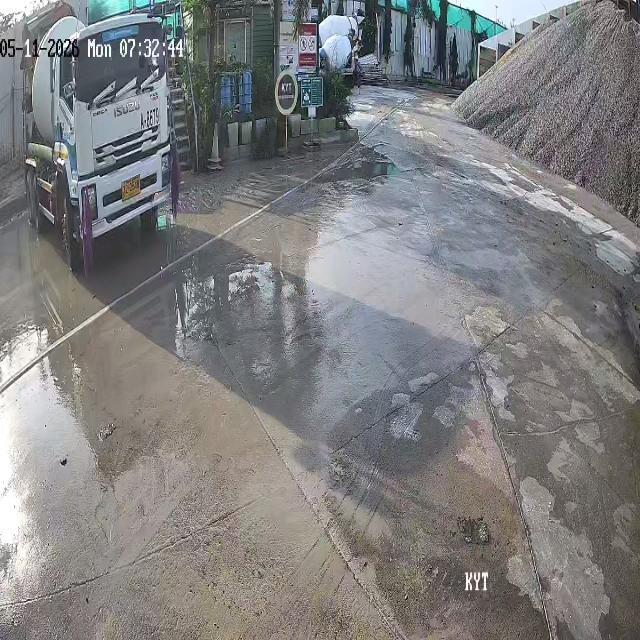cement_mixer_truck: (16, 10, 179, 264), (314, 34, 354, 85), (317, 13, 360, 37)
